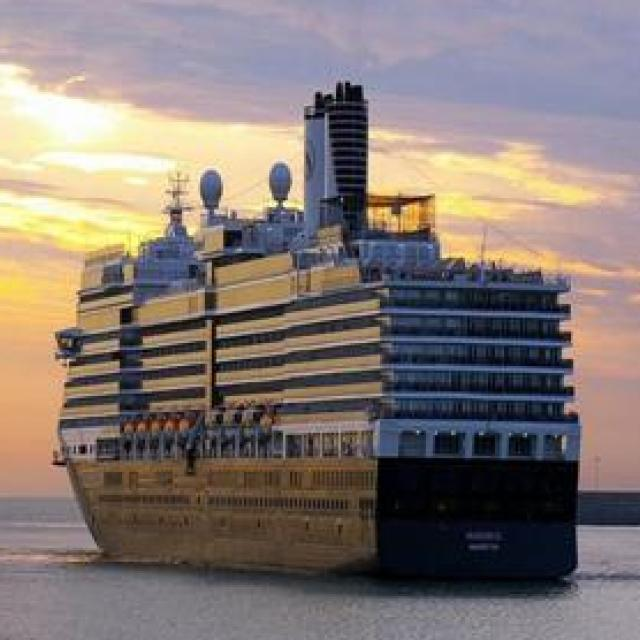passenger ship: (36, 127, 604, 576)
